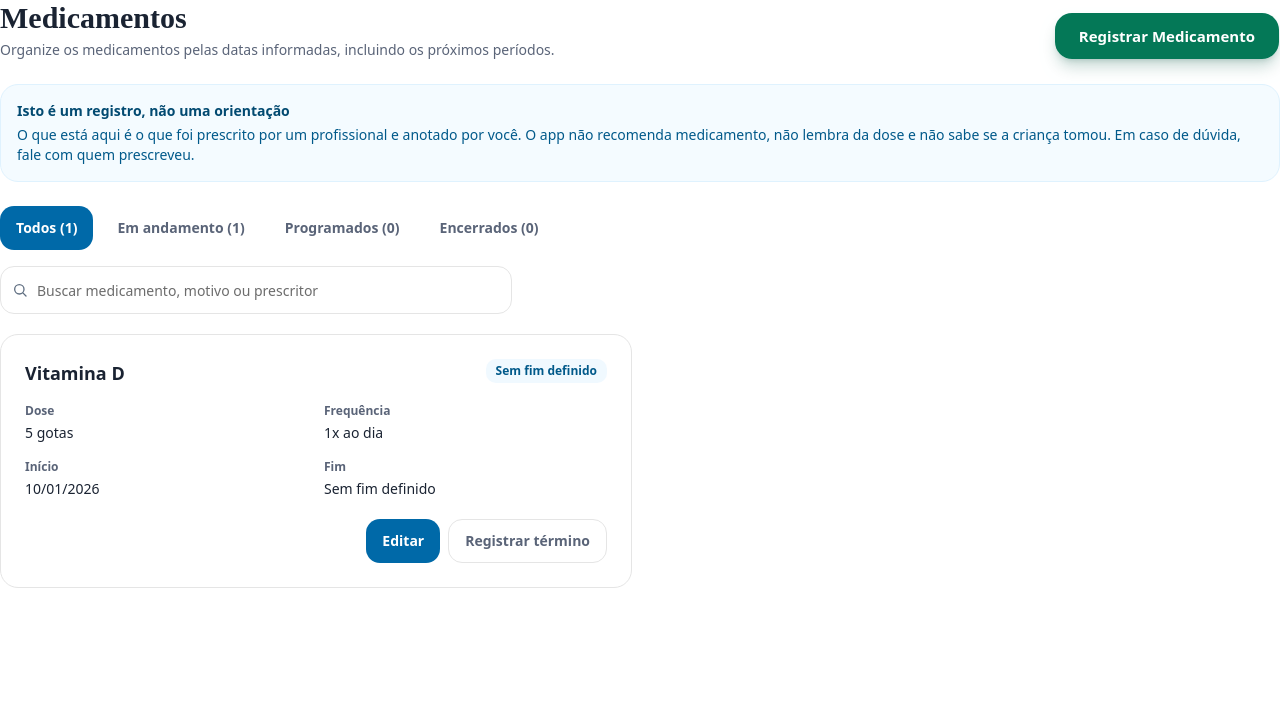
Test: MedicationsRoute, editing and failures › opens an empty form to record a new course
The width and height of the screenshot is (1280, 720).
Click the button "Registrar Medicamento". click: [1167, 36]
box: [1054,12,1279,60]
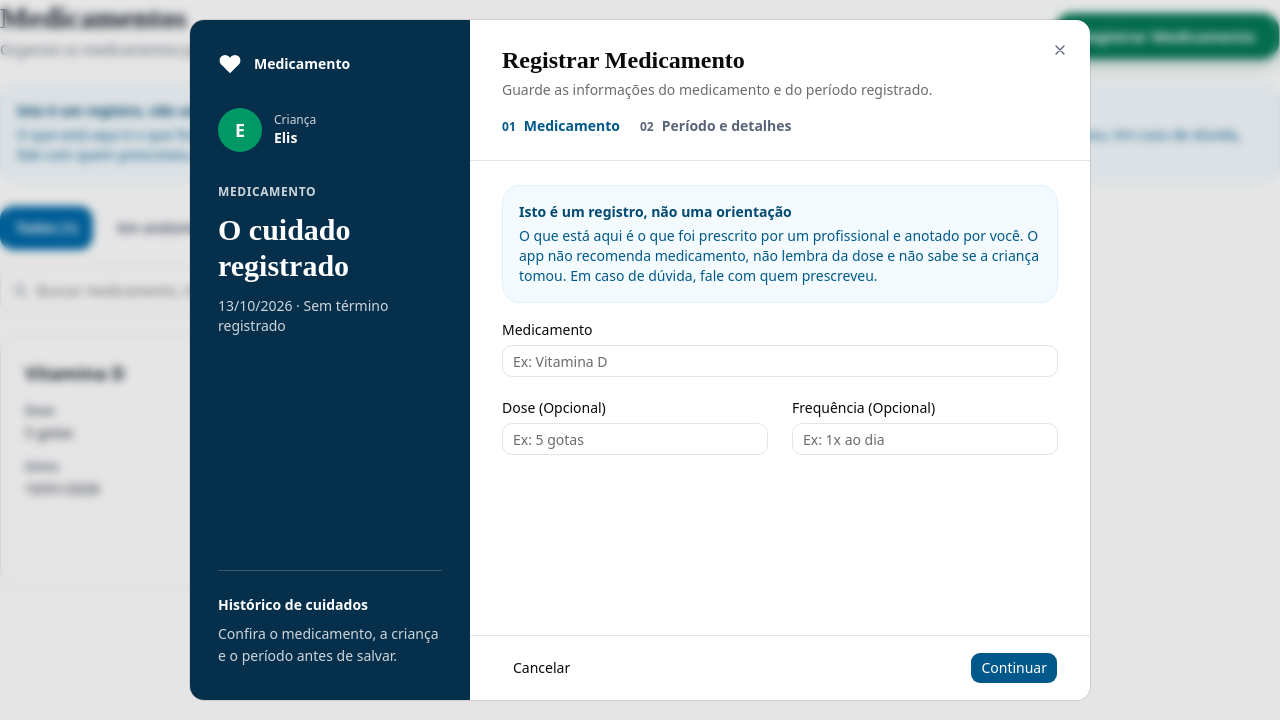
Result: the dialog is shown
